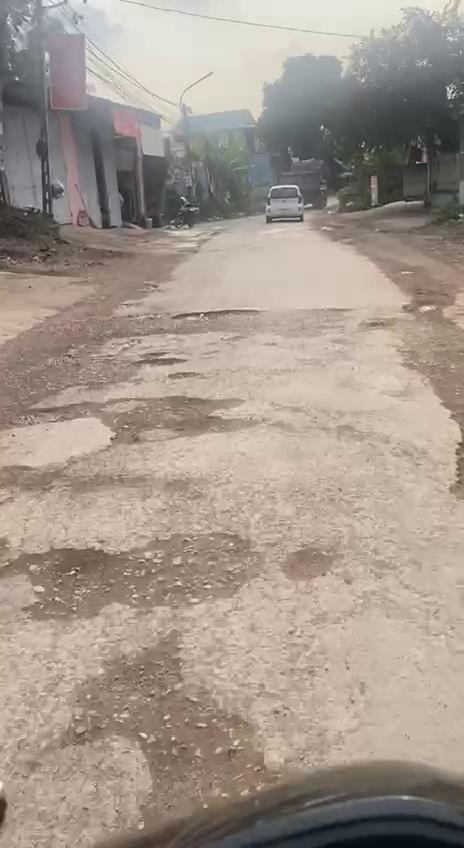pothole: (44, 632, 276, 836), (1, 518, 264, 626), (11, 391, 274, 449), (132, 350, 206, 384), (172, 308, 258, 322)
